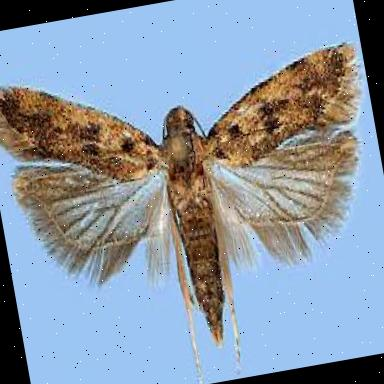abw: (0, 17, 384, 384)
